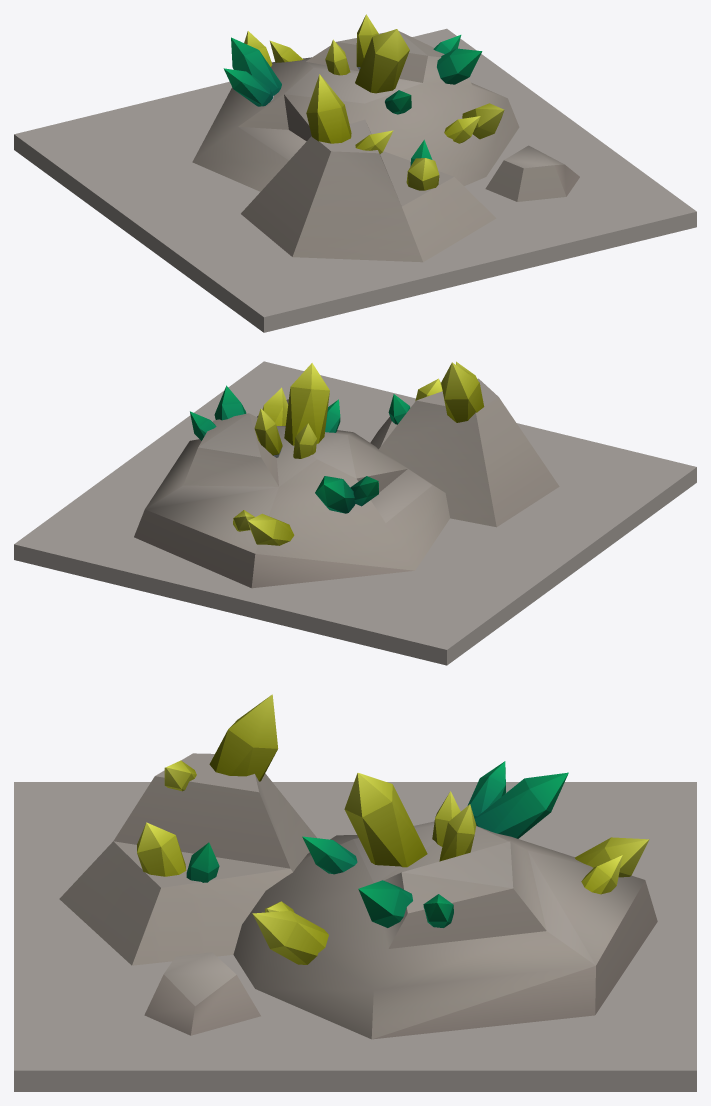
File: crystals.glb
3 views of the same model, one above another, from view 1: azimuth 30°, elevation 25°; view 2: azimuth 150°, elevation 25°; view 3: azimuth 270°, elevation 25° (orthographic). The views are drawn at different scales.
Visible parts, largest first — view 1: Crystals; view 2: Crystals; view 3: Crystals.
Part boxes in pixels (<box>): Crystals: <box>14,14,696,332</box>; Crystals: <box>14,361,696,665</box>; Crystals: <box>14,694,696,1091</box>.
Bounding box in the file's own units: 0.29 × 0.098 × 0.29.
1 material, 1 textured.
